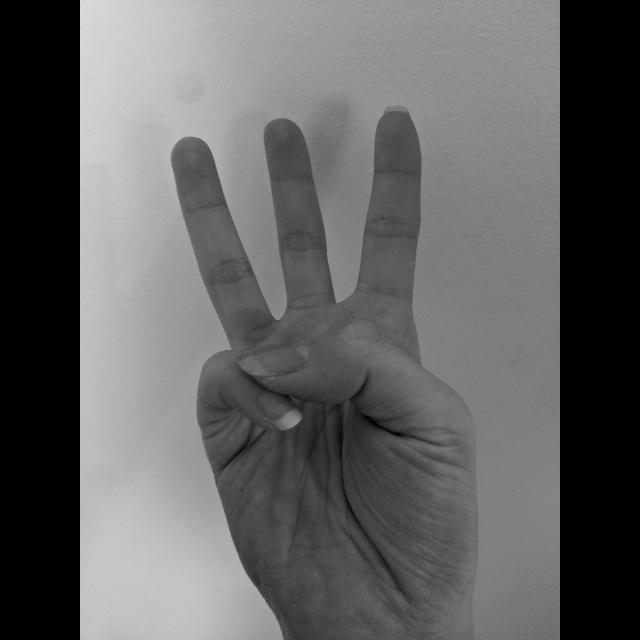W: (162, 100, 486, 640)
